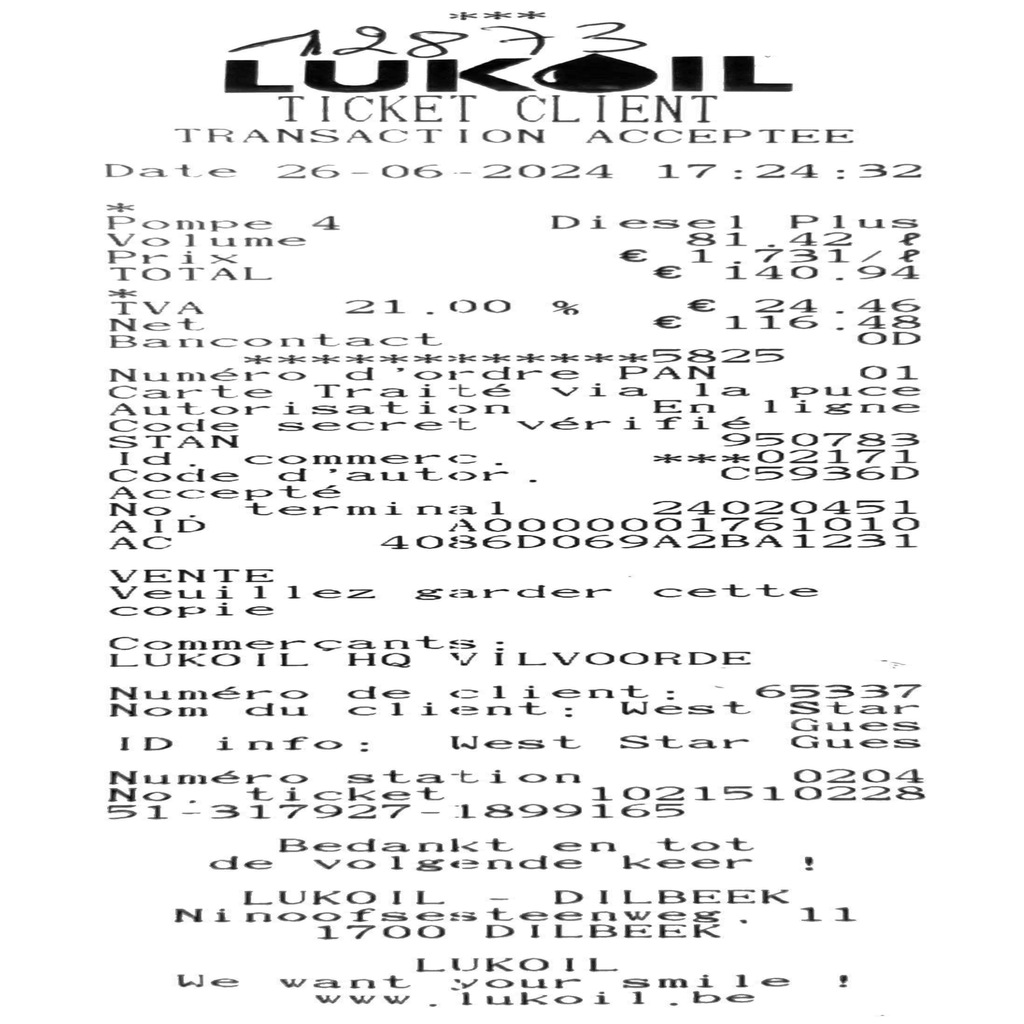recipt: (2, 4, 1022, 1018)
